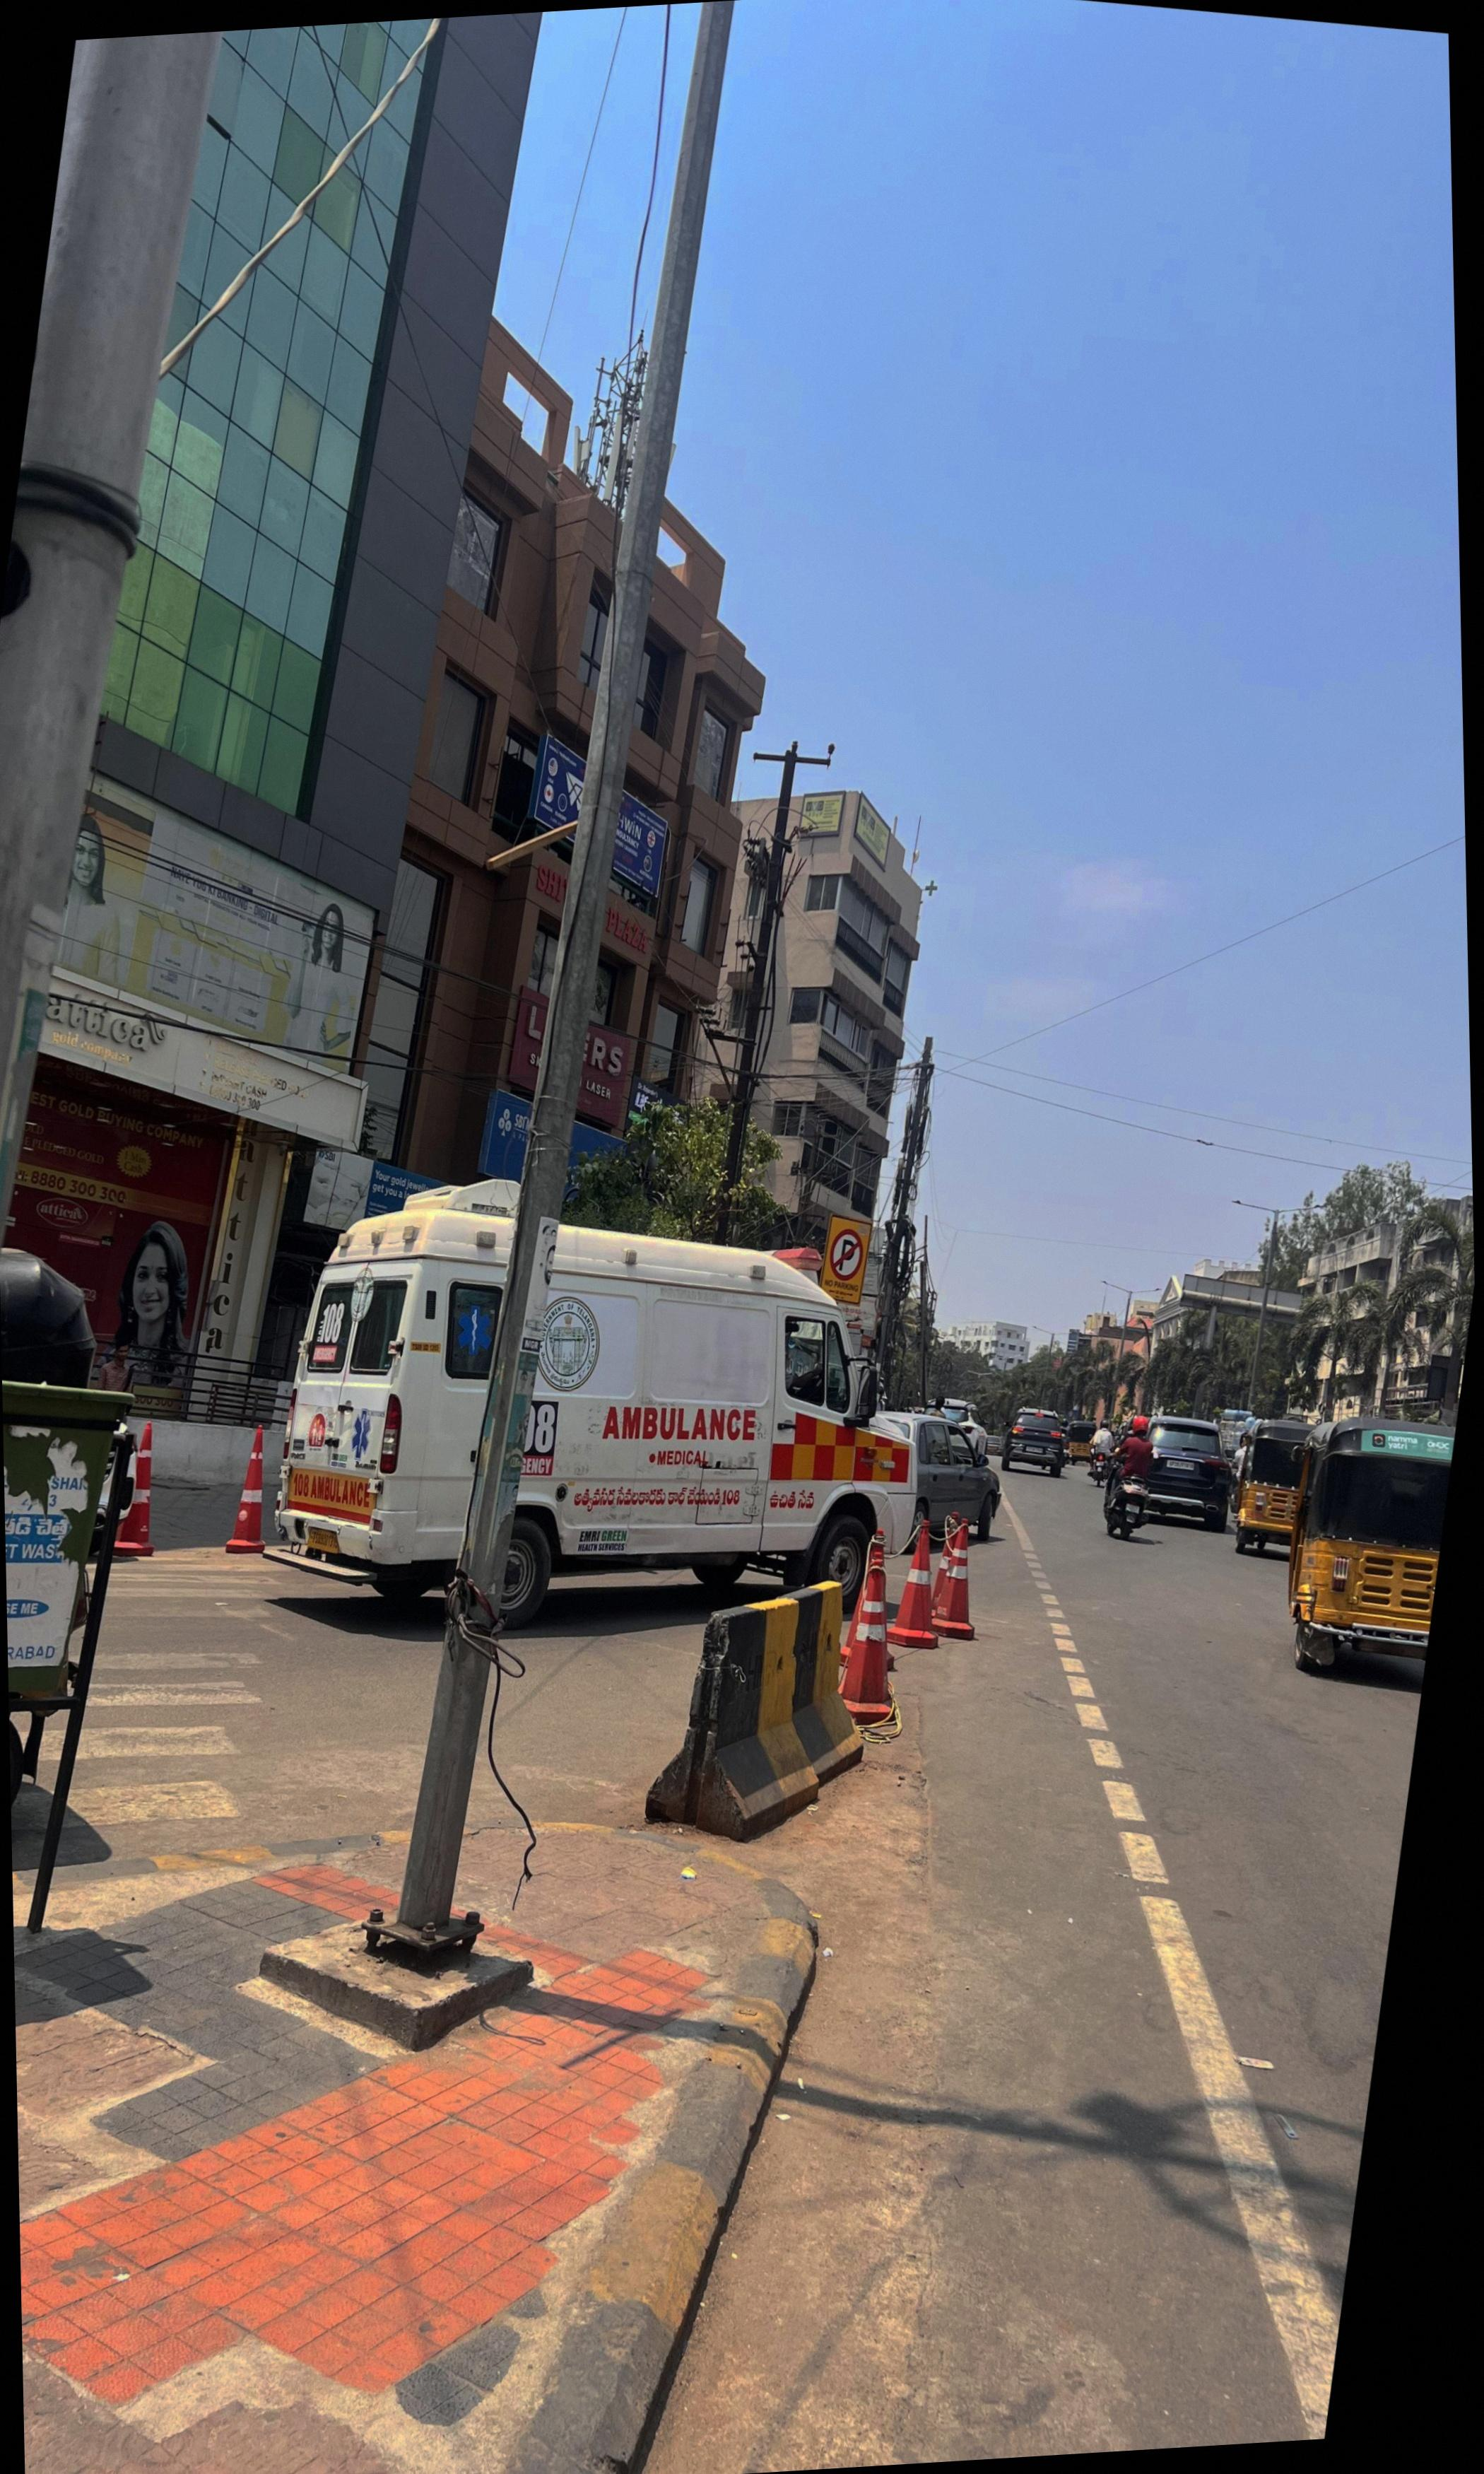ambulance: (279, 1180, 919, 1628)
